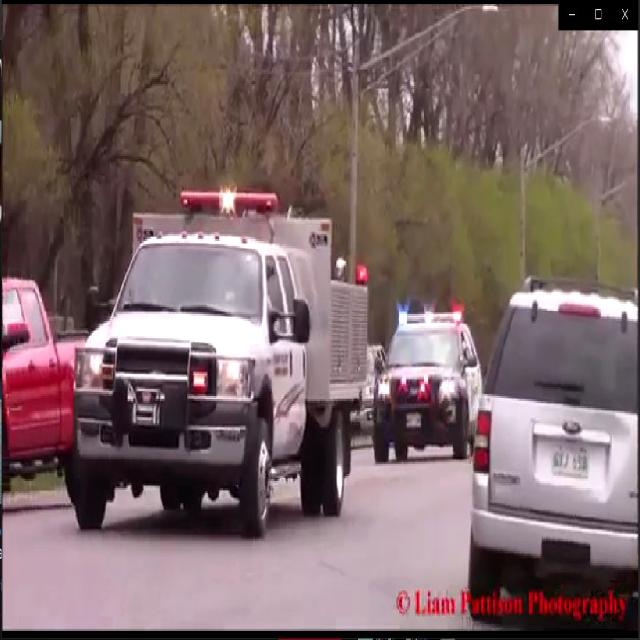emergency: (73, 183, 373, 542), (372, 301, 481, 465)
